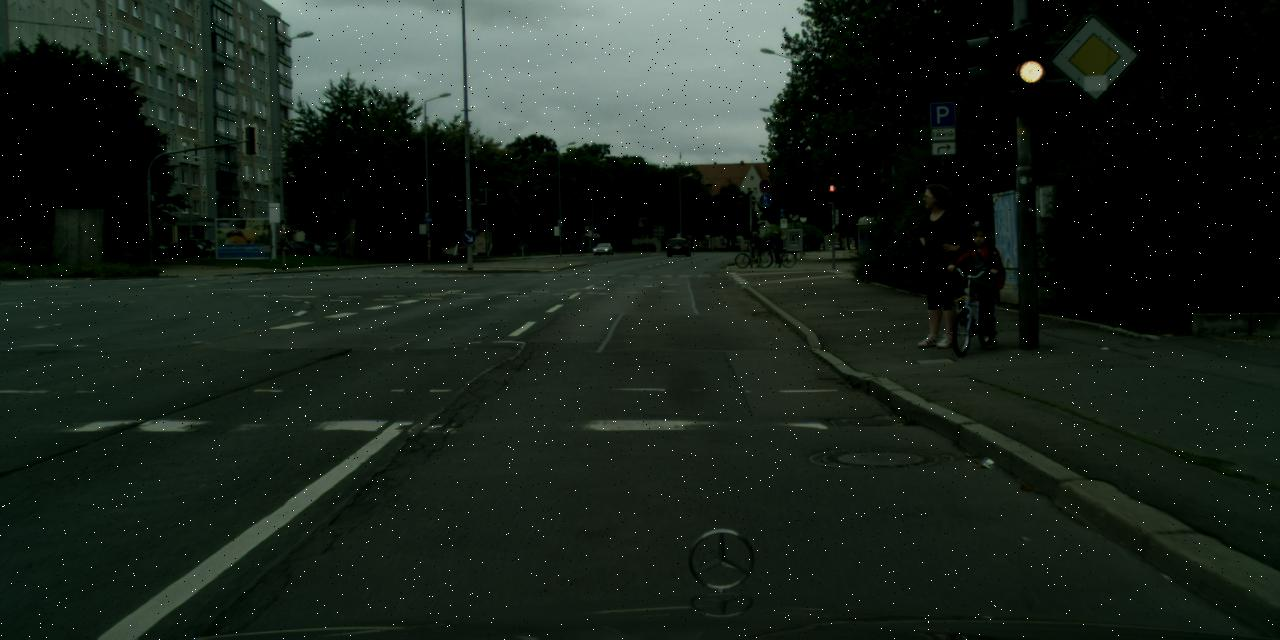ped: (904, 183, 970, 346), (954, 219, 1002, 337), (748, 230, 761, 262), (769, 231, 782, 263), (523, 240, 529, 256), (566, 242, 570, 252)
